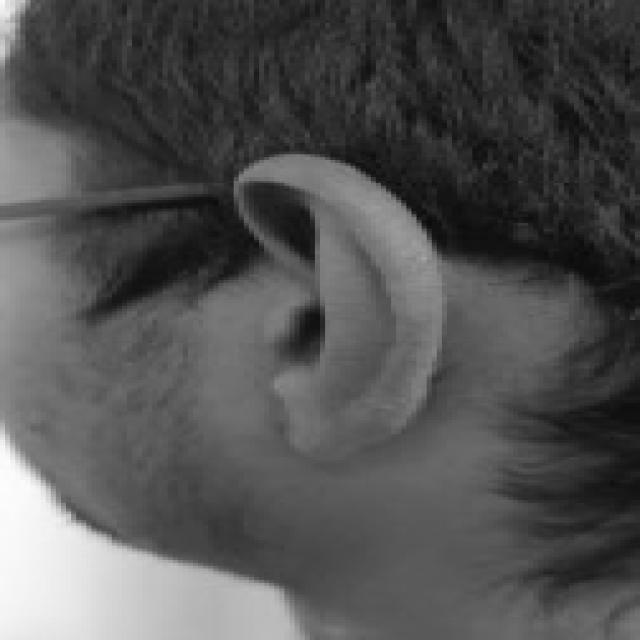ear: (239, 151, 437, 460)
